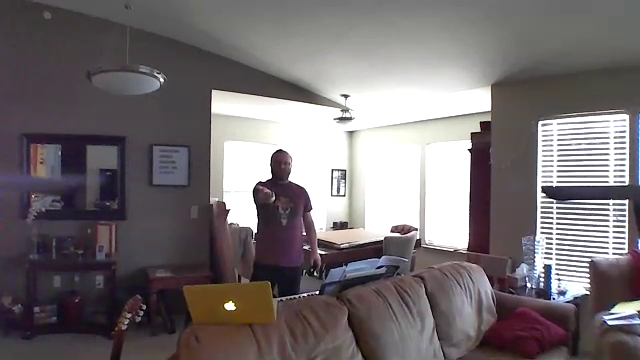land: (256, 183, 277, 203)
